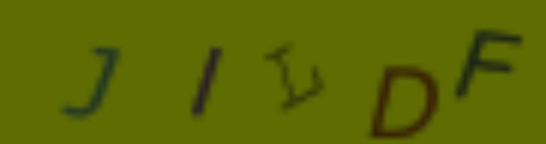D: (367, 61, 440, 141)
F: (450, 27, 531, 102)
I: (185, 45, 228, 122)
J: (59, 43, 124, 124)
L: (263, 39, 329, 110)
